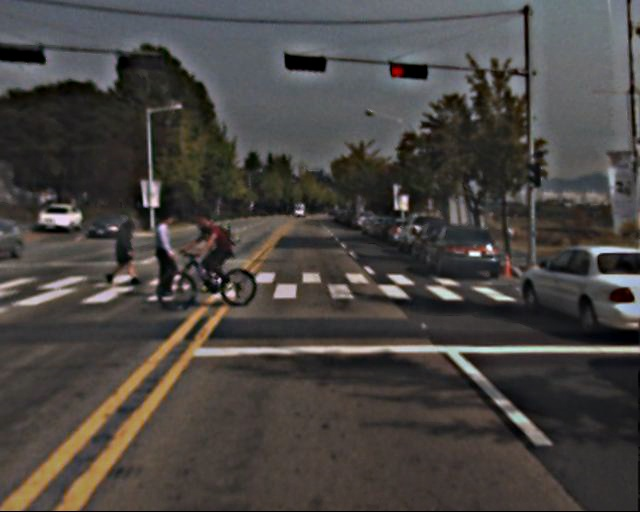person: (195, 202, 234, 290), (151, 208, 185, 296), (113, 213, 143, 289)
